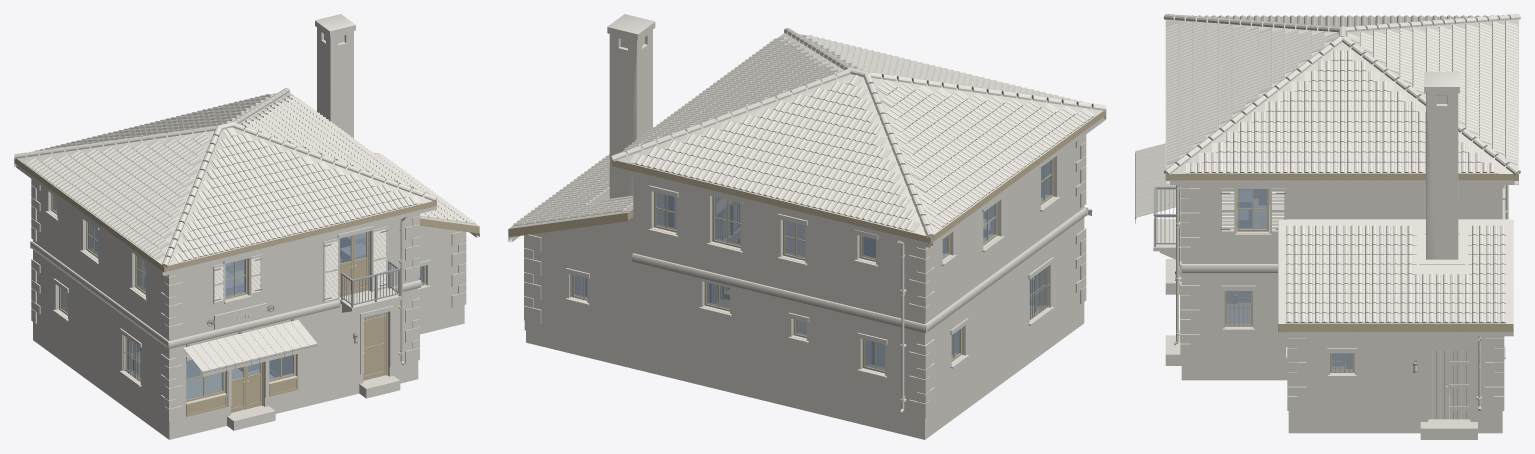
Rendered from calanques_h07.glb.
3 renders of one model, left to right at view 1: azimuth 30°, elevation 25°; view 2: azimuth 150°, elevation 25°; view 3: azimuth 270°, elevation 25°, orthographic. The views are drawn at different scales.
Visible parts, largest first — view 1: Shell_Main, roof_terracotta, Arch_sandstone_ashlar, Roof_A, Chimney_Shaft, Arch_canvas_fabric, terracotta, Arch_glass, Arch_shutter_paint, Arch_wood_mahogany_varnished, Arch_copper_patina, Arch_steel_painted_worn (+8 smaller); view 2: Shell_Main, roof_terracotta, Arch_sandstone_ashlar, Roof_A, Chimney_Shaft, Arch_glass, terracotta, Arch_copper_patina, Arch_wood_mahogany_varnished, Roof_C, Arch_steel_painted_worn; view 3: roof_terracotta, Shell_Main, Roof_A, Arch_sandstone_ashlar, Chimney_Shaft, Roof_C, terracotta, Arch_copper_patina, Arch_glass, Arch_canvas_fabric, copper_patina, Arch_shutter_paint (+5 smaller).
Part boxes in pixels (left/top/right/bottom): Shell_Main: left=33, top=186, right=464, bottom=439; roof_terracotta: left=23, top=93, right=475, bottom=262; Arch_sandstone_ashlar: left=30, top=179, right=466, bottom=421; Roof_A: left=14, top=92, right=436, bottom=272; Chimney_Shaft: left=315, top=14, right=355, bottom=138; Arch_canvas_fabric: left=183, top=320, right=317, bottom=376; terracotta: left=14, top=88, right=437, bottom=267; Arch_glass: left=53, top=195, right=423, bottom=399; Arch_shutter_paint: left=213, top=226, right=387, bottom=304; Arch_wood_mahogany_varnished: left=51, top=193, right=425, bottom=416; Arch_copper_patina: left=14, top=163, right=479, bottom=364; Arch_steel_painted_worn: left=123, top=230, right=427, bottom=381; Shell_Main: left=524, top=142, right=1084, bottom=439; roof_terracotta: left=513, top=34, right=1095, bottom=232; Arch_sandstone_ashlar: left=524, top=134, right=1087, bottom=417; Roof_A: left=611, top=33, right=1106, bottom=243; Chimney_Shaft: left=607, top=14, right=655, bottom=198; Arch_glass: left=574, top=160, right=1050, bottom=370; terracotta: left=611, top=28, right=1106, bottom=237; Arch_copper_patina: left=508, top=115, right=1106, bottom=412; Arch_wood_mahogany_varnished: left=571, top=159, right=1053, bottom=373; Roof_C: left=508, top=188, right=633, bottom=237; Arch_steel_painted_worn: left=570, top=203, right=1092, bottom=319; roof_terracotta: left=1166, top=15, right=1518, bottom=323; Shell_Main: left=1165, top=185, right=1502, bottom=439; Roof_A: left=1165, top=19, right=1518, bottom=180; Arch_sandstone_ashlar: left=1153, top=185, right=1505, bottom=410; Chimney_Shaft: left=1424, top=72, right=1459, bottom=259; Roof_C: left=1278, top=219, right=1513, bottom=332; terracotta: left=1163, top=14, right=1520, bottom=175; Arch_copper_patina: left=1165, top=180, right=1518, bottom=410; Arch_glass: left=1226, top=189, right=1352, bottom=370; Arch_canvas_fabric: left=1135, top=143, right=1179, bottom=223; copper_patina: left=1176, top=210, right=1509, bottom=399; Arch_shutter_paint: left=1220, top=188, right=1470, bottom=420.
Size of the model in its own units: 13.96 by 9.8 by 10.82.
